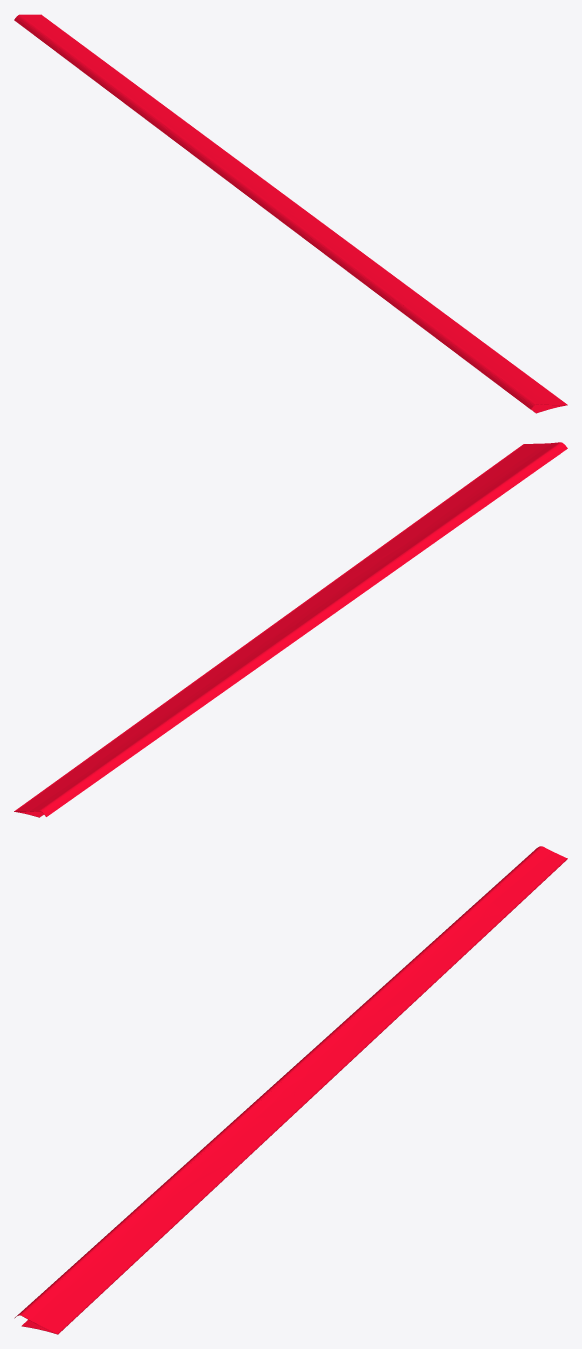
Rendered from pik_20b_right_flap.dae.
The picture shows the model from 3 angles, top to bottom: view 1: azimuth 30°, elevation 25°; view 2: azimuth 150°, elevation 25°; view 3: azimuth 330°, elevation 25°; orthographic projection. The views are drawn at different scales.
Visible parts, largest first — view 1: node2.003; view 2: node2.003; view 3: node2.003.
Part boxes in pixels (bbox=[...]): node2.003: bbox=[14, 14, 567, 413]; node2.003: bbox=[14, 442, 567, 817]; node2.003: bbox=[14, 846, 567, 1334].
Size of the model in its own units: 0.3433 by 4.08 by 0.2469.
